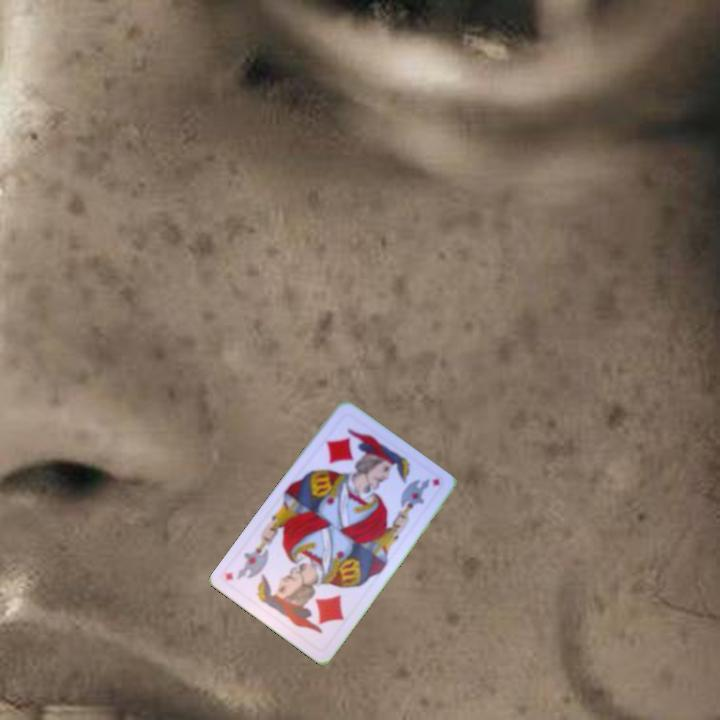d_j.png: (270, 569, 356, 654), (311, 410, 397, 494)
